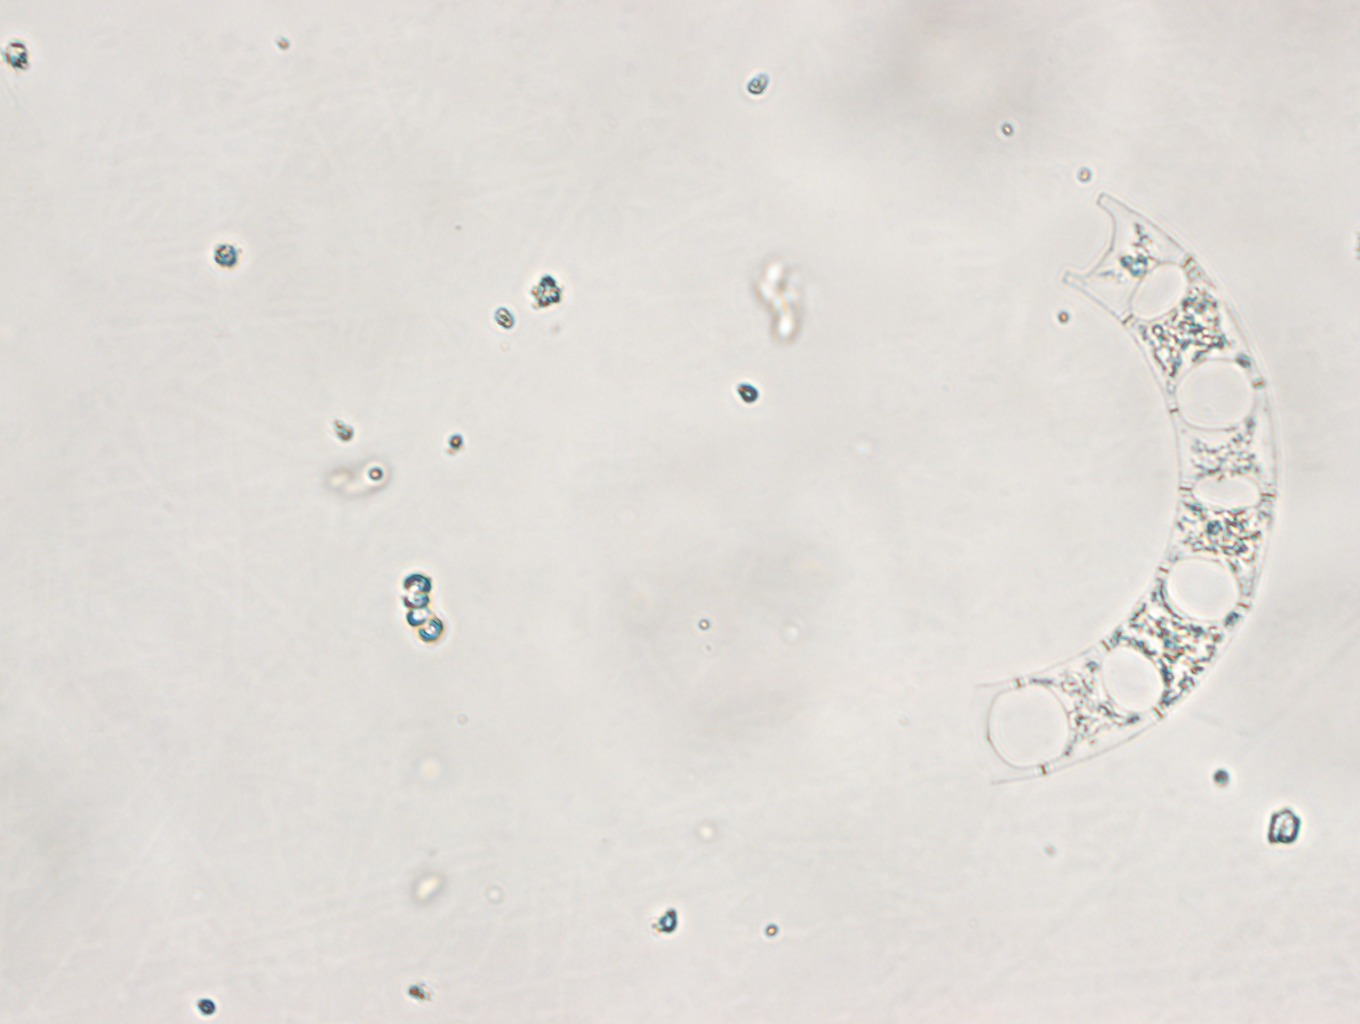eucampia: (955, 171, 1282, 782)
